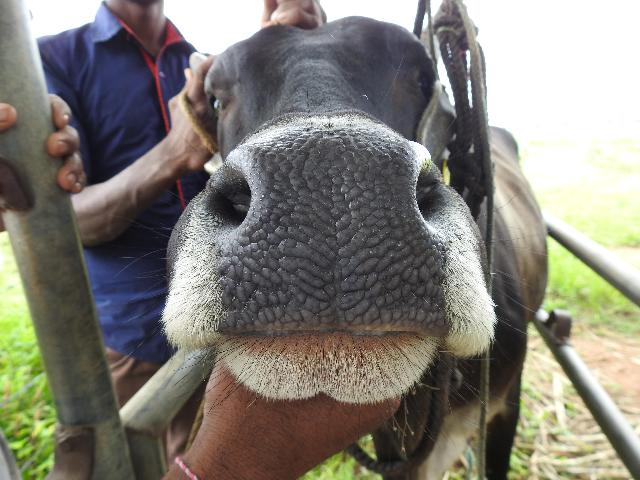Muzzle: (238, 144, 426, 332)
